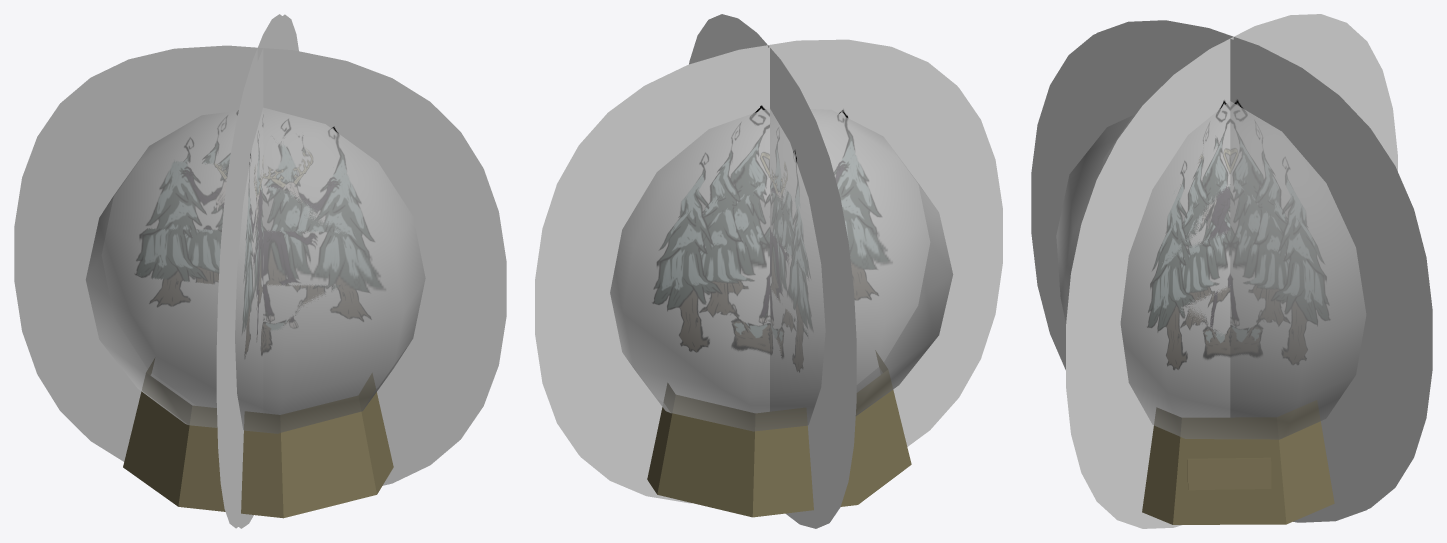
File: bouleneigetest.fbx
The picture shows the model from 3 angles, left to right: view 1: azimuth 30°, elevation 25°; view 2: azimuth 150°, elevation 25°; view 3: azimuth 270°, elevation 25°; orthographic projection. The views are drawn at different scales.
Parts seen in each view (by area): view 1: pPlane5, Boule_neige, pPlane2, pPlane6, pPlane1; view 2: pPlane1, Boule_neige, pPlane2, pPlane5, pPlane6; view 3: pPlane6, Boule_neige, pPlane2, pPlane5, pPlane1.
Boxes of the visible parts, <box> form: pPlane5: <box>14,45,500,483</box>; Boule_neige: <box>85,107,425,518</box>; pPlane2: <box>20,50,506,485</box>; pPlane6: <box>222,14,298,528</box>; pPlane1: <box>216,14,281,528</box>; pPlane1: <box>537,41,1002,503</box>; Boule_neige: <box>610,108,953,517</box>; pPlane2: <box>689,14,854,526</box>; pPlane5: <box>770,59,856,528</box>; pPlane6: <box>535,39,957,455</box>; pPlane6: <box>1031,22,1428,522</box>; Boule_neige: <box>1056,101,1366,524</box>; pPlane2: <box>1066,16,1394,528</box>; pPlane5: <box>1158,14,1397,407</box>; pPlane1: <box>1096,20,1432,508</box>.
Size of the model in its own units: 25.49 by 32.7 by 25.44.
